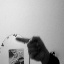g: (15, 35, 46, 61)
